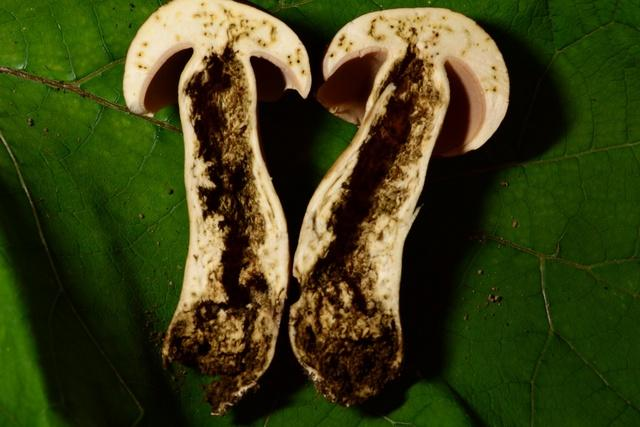Non-edible Mushroom: (288, 5, 510, 407), (121, 0, 312, 416)
